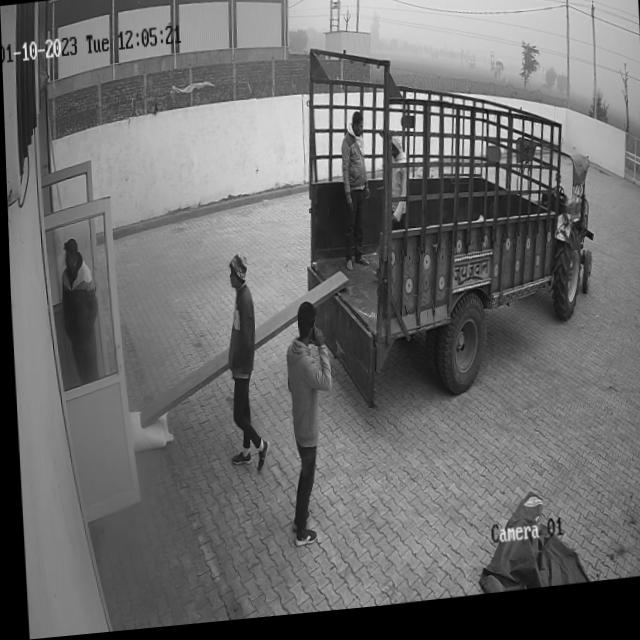sack: (125, 408, 170, 453)
